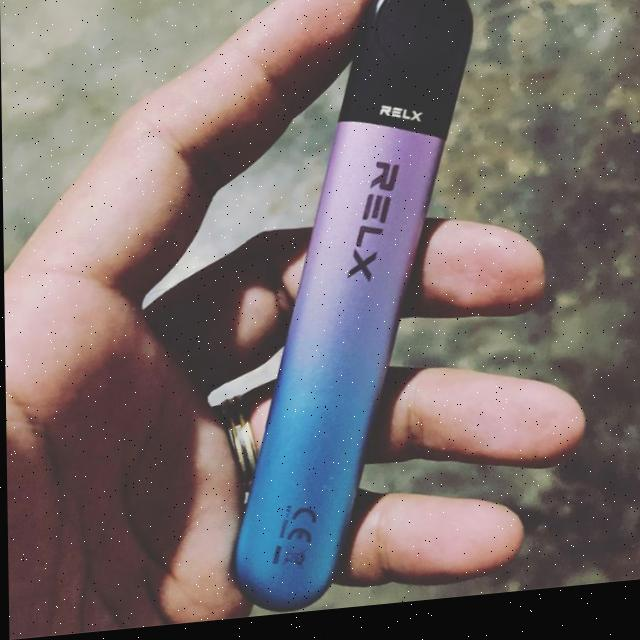vape: (222, 0, 486, 623)
